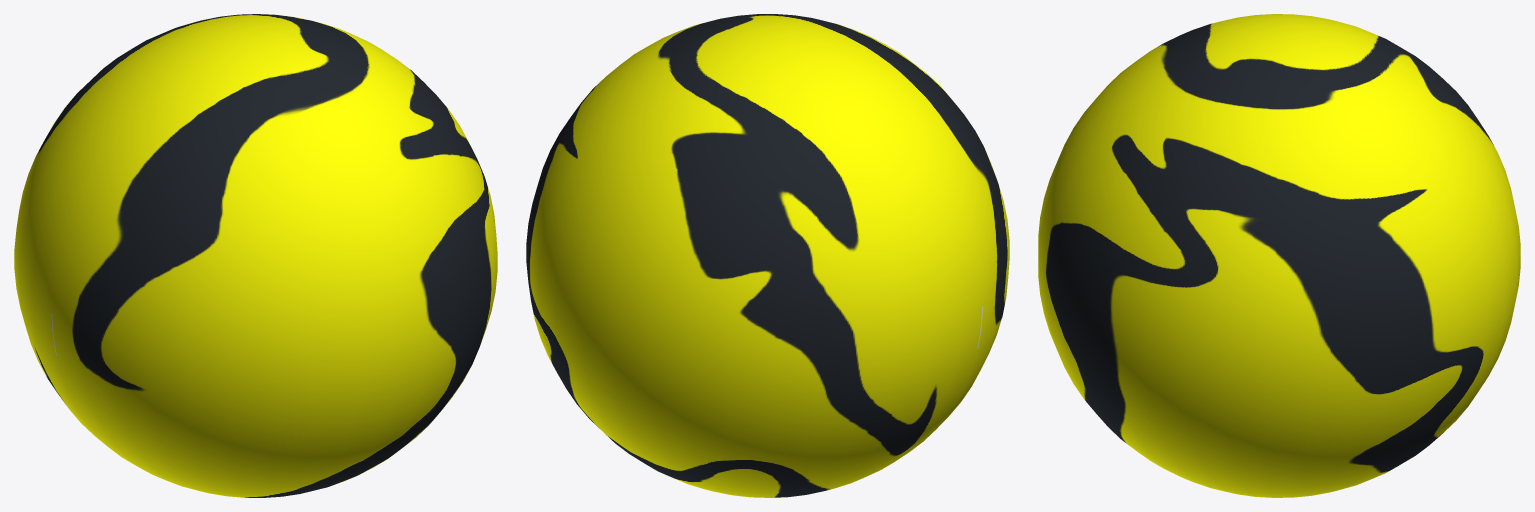
Rendered from Bumblebee.fbx.
3 views of the same model, side by side, from view 1: azimuth 30°, elevation 25°; view 2: azimuth 150°, elevation 25°; view 3: azimuth 270°, elevation 25° (orthographic).
Visible parts, largest first — view 1: Bumblebee; view 2: Bumblebee; view 3: Bumblebee.
Part boxes in pixels (left/top/right/bottom): Bumblebee: left=14, top=14, right=497, bottom=497; Bumblebee: left=526, top=14, right=1009, bottom=497; Bumblebee: left=1038, top=14, right=1520, bottom=497.
Bounding box in the file's own units: 200 × 200 × 199.
Materials: 1 (1 with a texture image).
